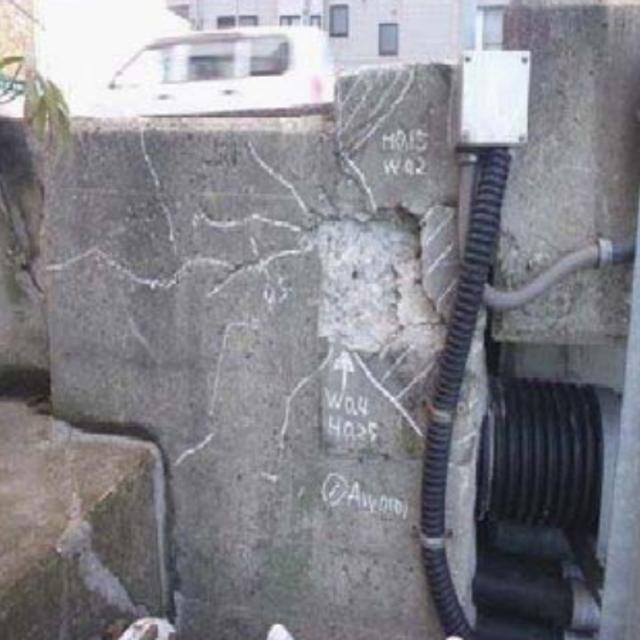spalling: (301, 176, 466, 394)
